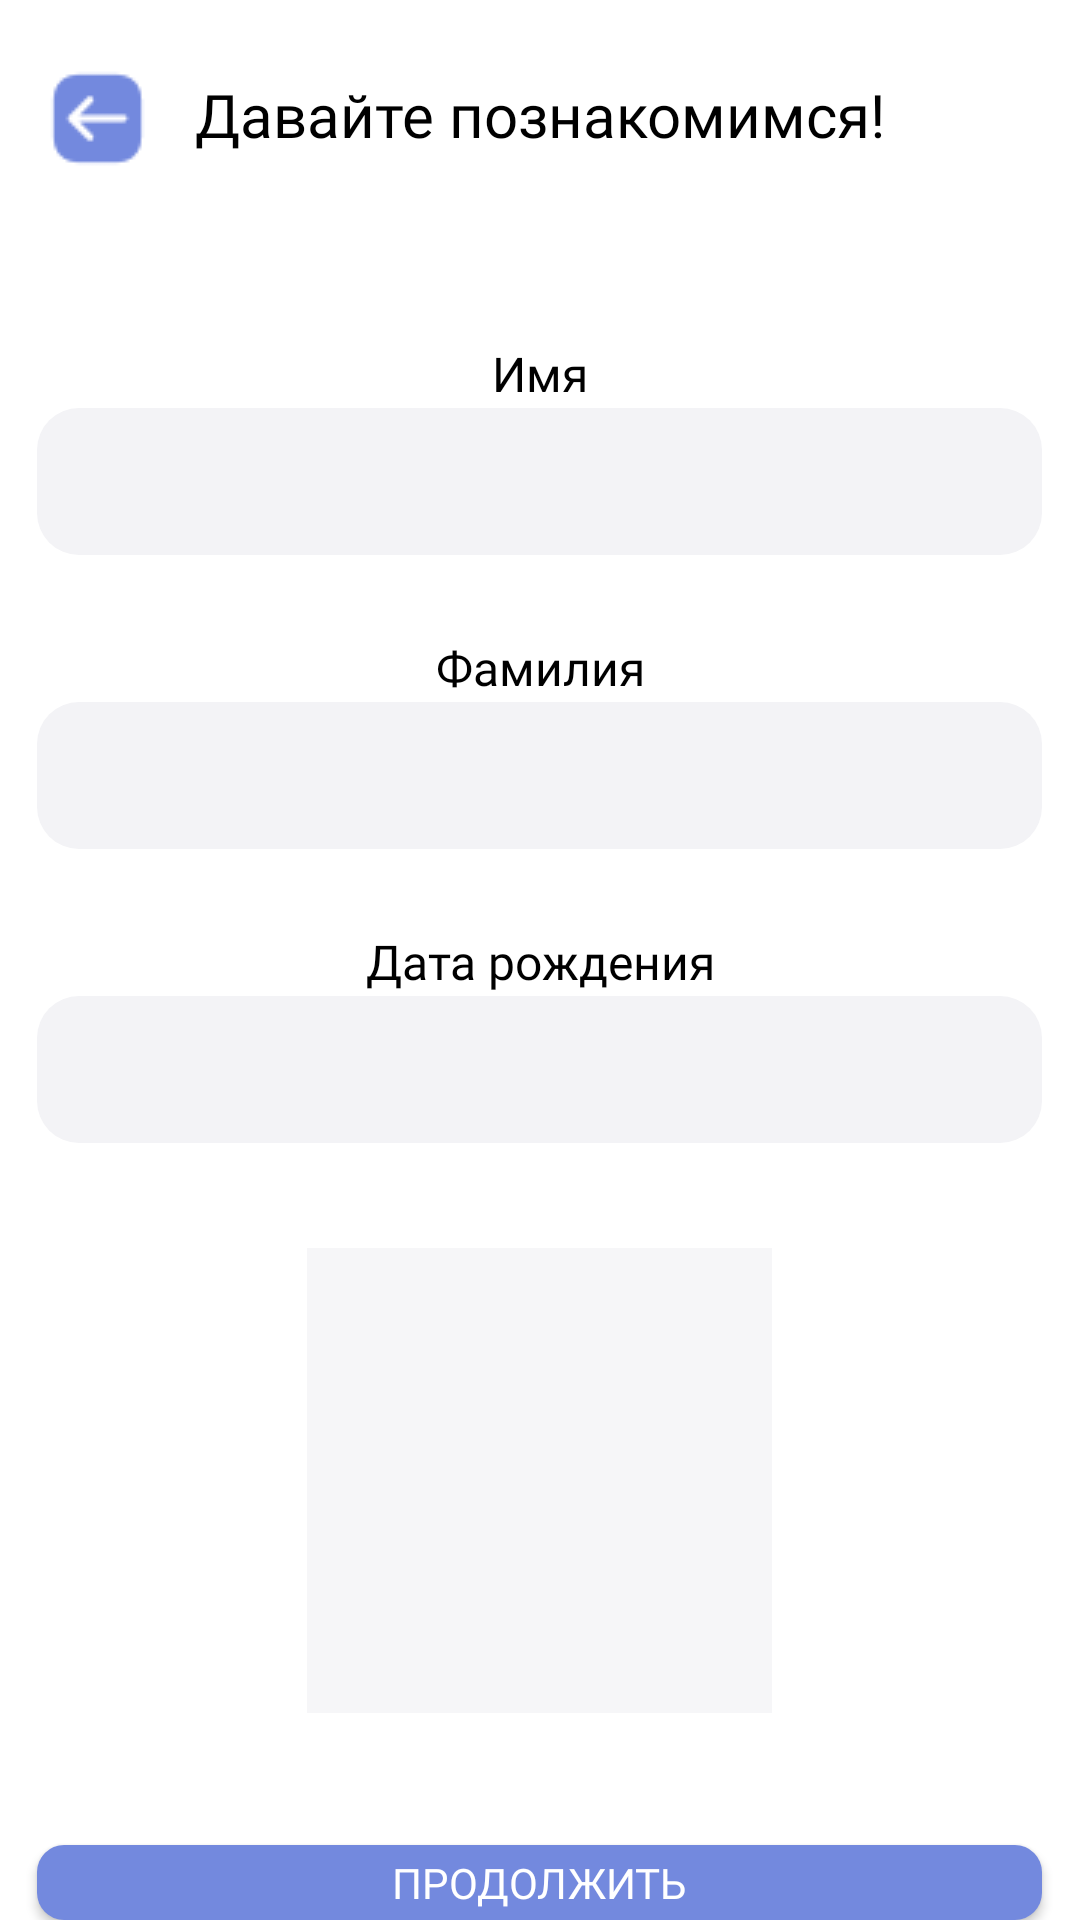

Named icons in this screenshot (1080 x 1920) and their centers, point (x, y):
back: point (97, 118)
